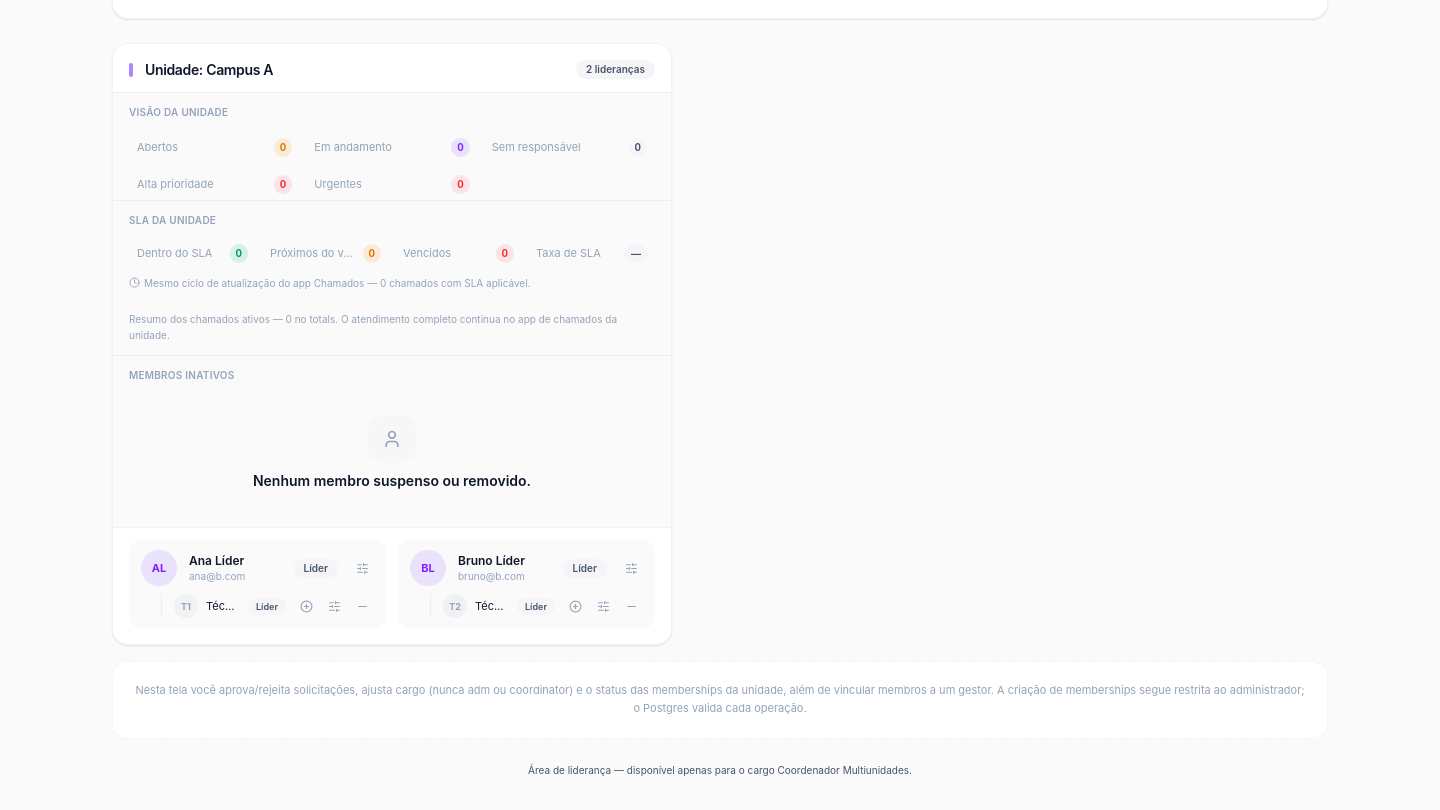
CoordinatorHome (Área do Coordenador — gestão por RPC escopada) › gestão real — atribuir a gestor (setCoordinatorManager) › erro do RPC na remoção → banner de erro honesto, sem refresh falso
The image size is (1440, 810).
(page scrolled)
Click the button named "Remover Técnico 1 da equipe": (362, 606) [350,594,374,618]
(page scrolled)
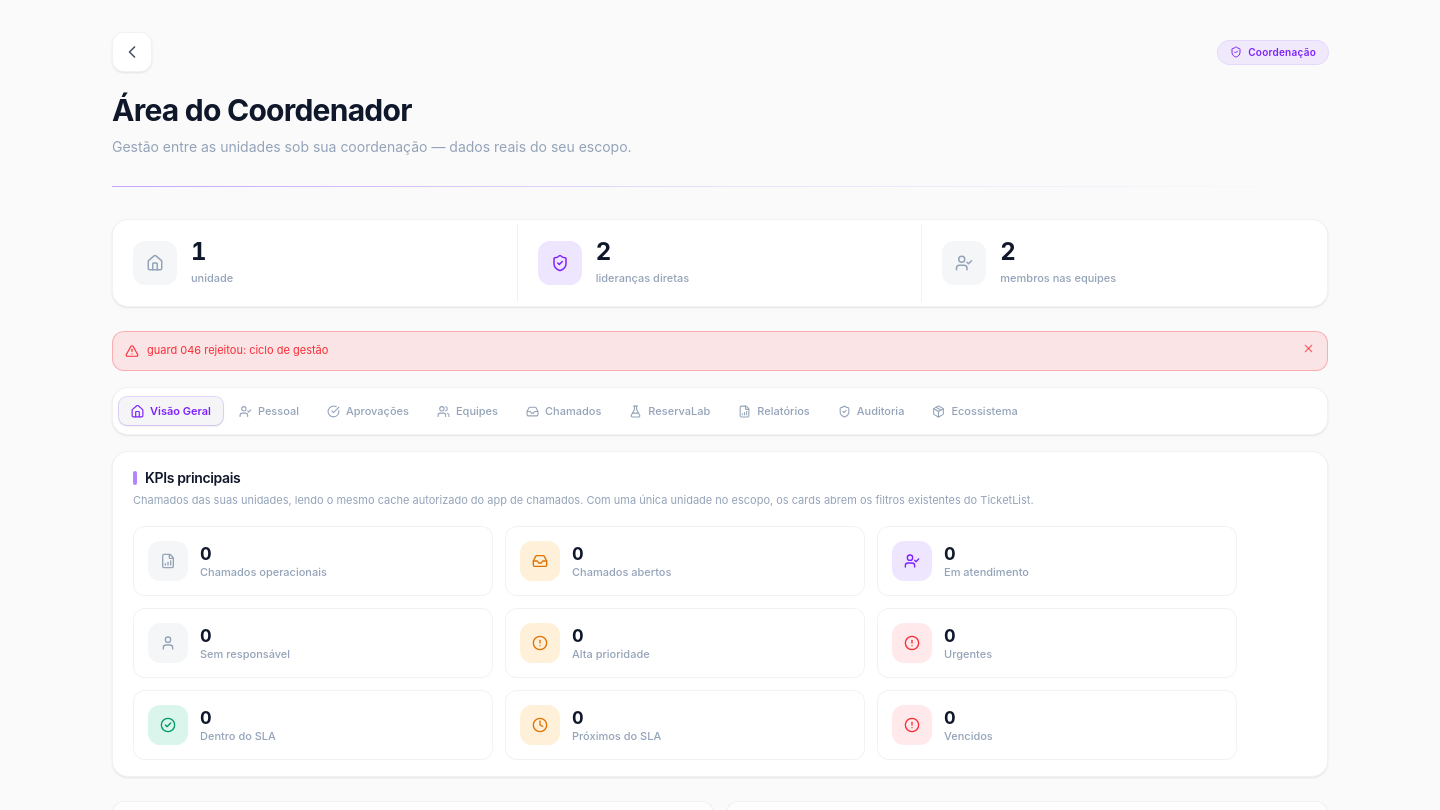
Result: the text "guard 046 rejeitou: ciclo de gestão" is shown at [147,343,328,357]
